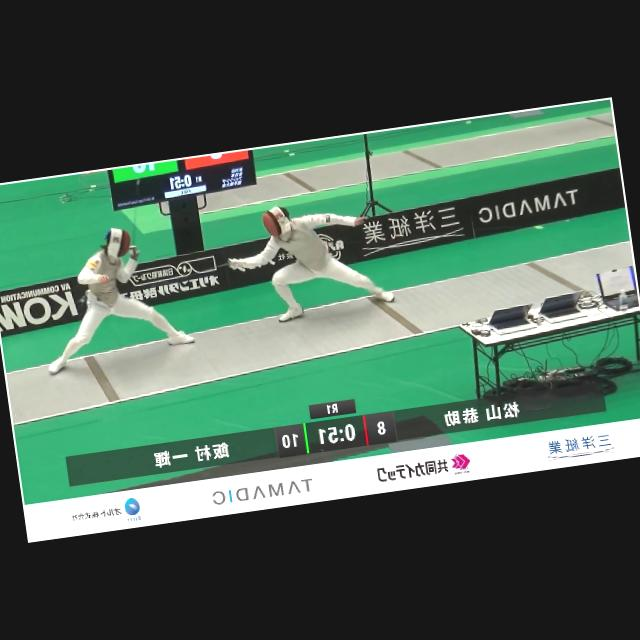blade: (113, 167, 158, 260), (186, 252, 240, 281)
